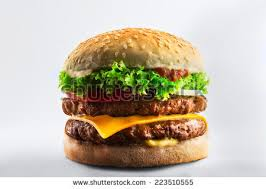hamburger: (56, 24, 211, 168)
